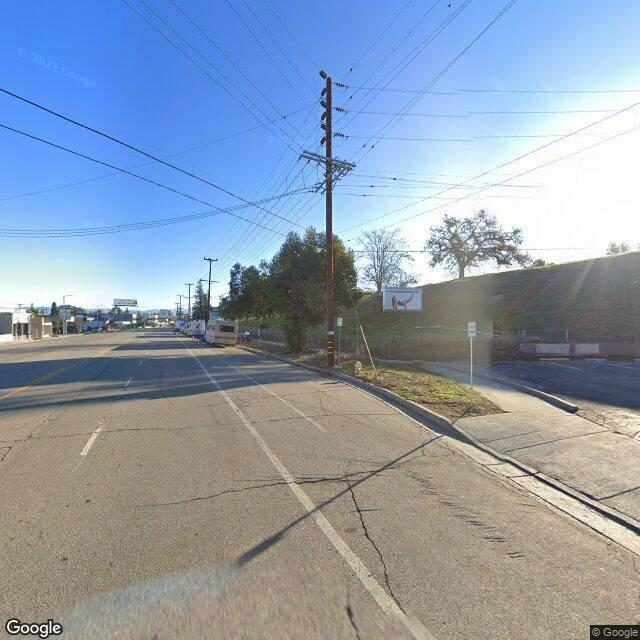crack: (120, 444, 430, 508), (0, 409, 400, 449), (339, 477, 398, 607)
